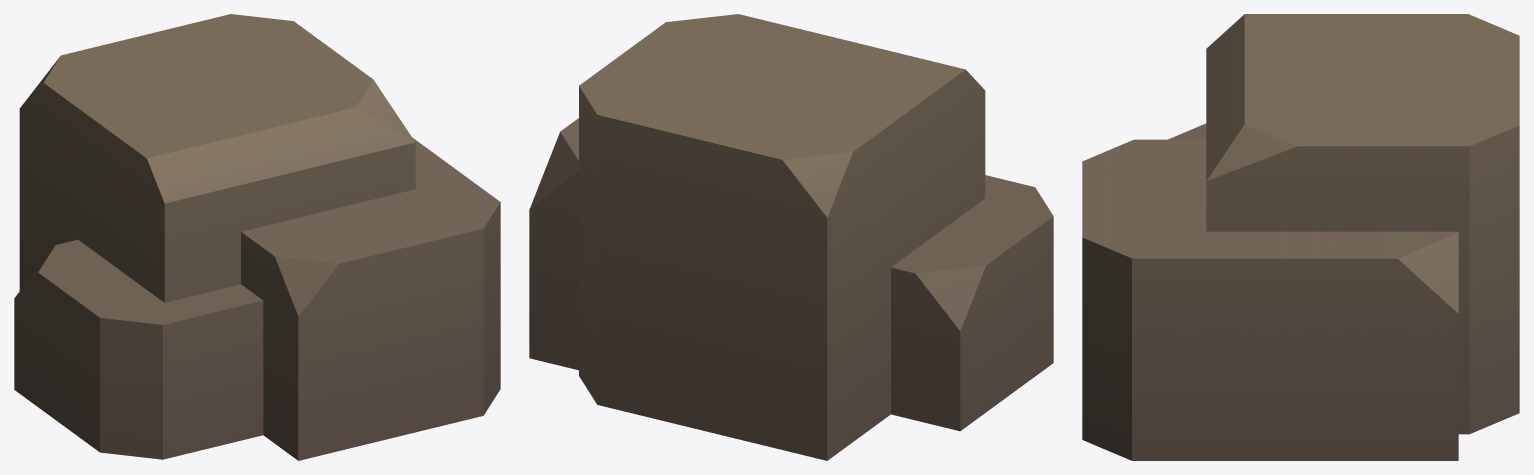
Rendered from dirtMound_2.fbx.
The picture shows the model from 3 angles, left to right: view 1: azimuth 30°, elevation 25°; view 2: azimuth 150°, elevation 25°; view 3: azimuth 270°, elevation 25°; orthographic projection. The views are drawn at different scales.
Parts seen in each view (by area): view 1: dirt2; view 2: dirt2; view 3: dirt2.
Part boxes in pixels (x1,y1,x2,y2): dirt2: (14, 14, 500, 460); dirt2: (529, 14, 1053, 460); dirt2: (1082, 14, 1519, 460).
Bounding box in the file's own units: 146 × 140 × 101.
